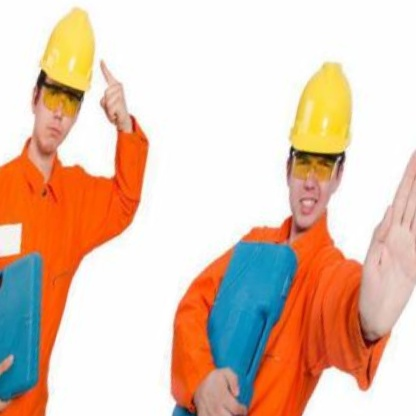yellow: (281, 51, 372, 170), (30, 0, 117, 104)
